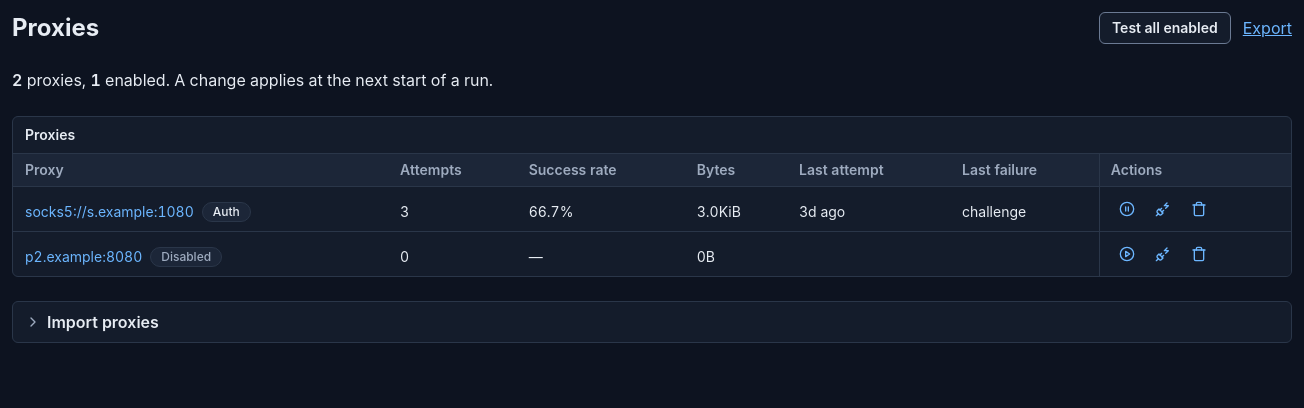
Test case: page › shows a failed request, and clears it on the next change
Click the button named "Enable p2.example:8080". click: x=1127, y=254
box: left=1111, top=238, right=1143, bottom=270
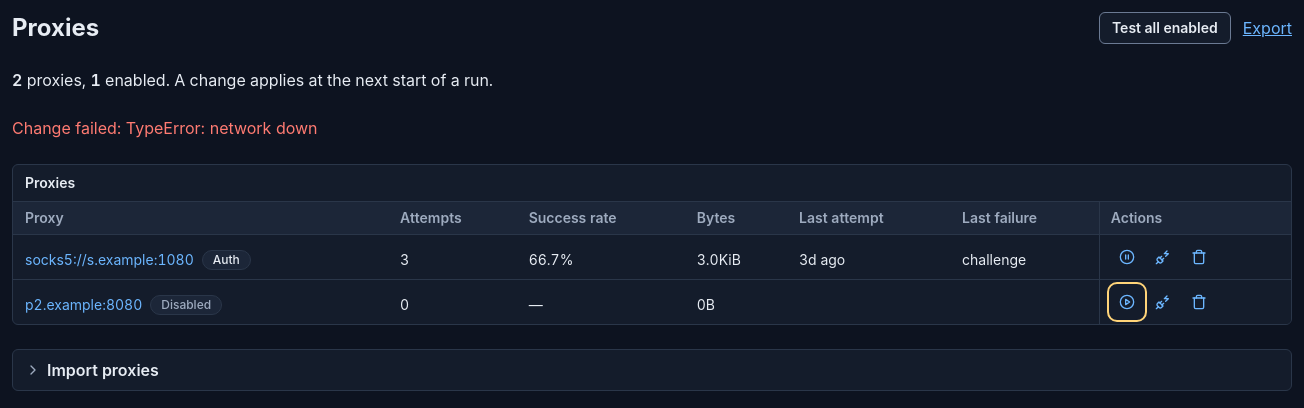
Expected: the message reads "Change failed: TypeError: network down", left=12, top=118, right=318, bottom=138
Click the button named "Enable p2.example:8080". click: x=1127, y=302
box: left=1111, top=286, right=1143, bottom=318
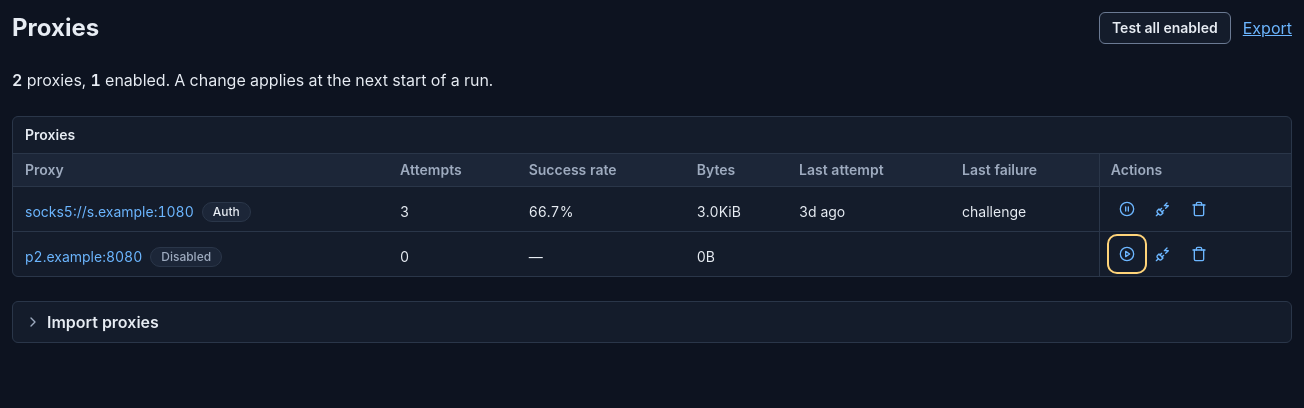
Expected: the message "Change failed: TypeError: network down" is gone
